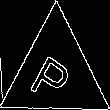P_NE: (30, 42, 81, 104)
